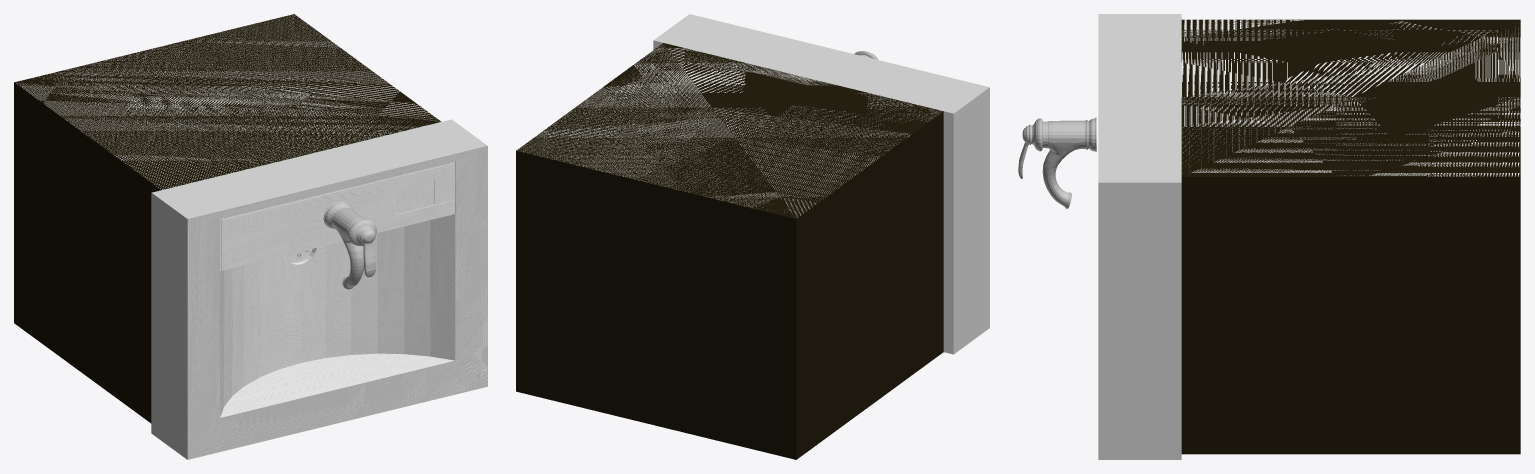
3 renders of one model, left to right at view 1: azimuth 30°, elevation 25°; view 2: azimuth 150°, elevation 25°; view 3: azimuth 270°, elevation 25°, orthographic. The views are drawn at different scales.
Parts seen in each view (by area): view 1: sink; view 2: sink; view 3: sink.
Part boxes in pixels (x1,y1,x2,y2): sink: (14, 14, 487, 459); sink: (516, 14, 989, 459); sink: (1018, 14, 1520, 459).
Size of the model in its own units: 23.62 by 18.7 by 29.74.
